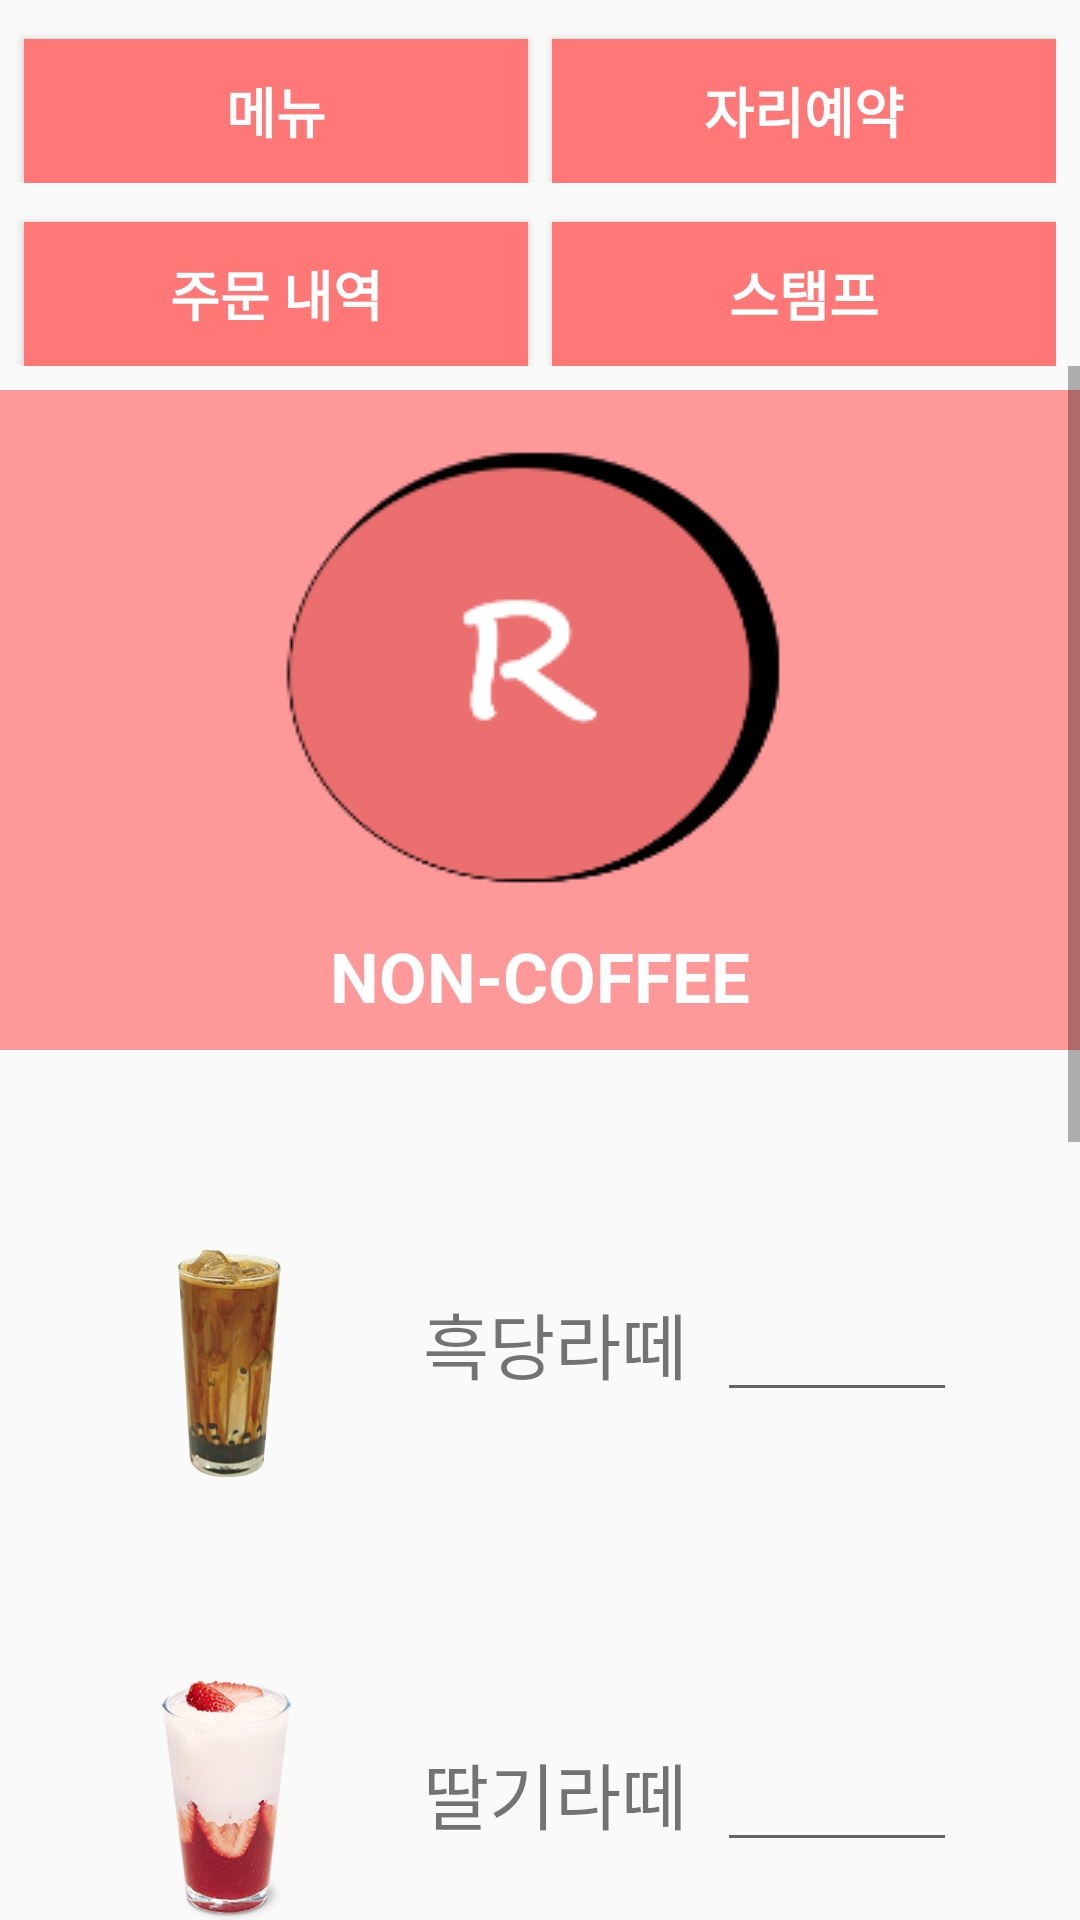

Icon bounding boxes for this 1080*1920 phone screenshot, format (x1, y1, x2, y2):
berry: (162, 1681, 291, 1919)
